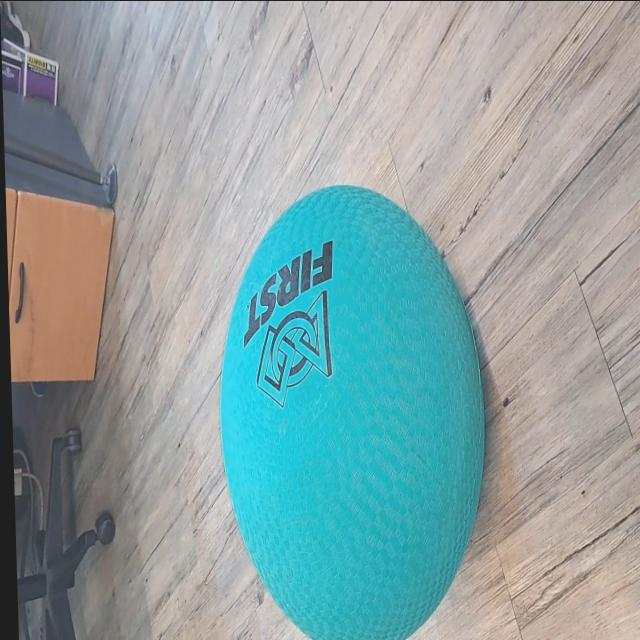ALGAE: (211, 182, 492, 639)
